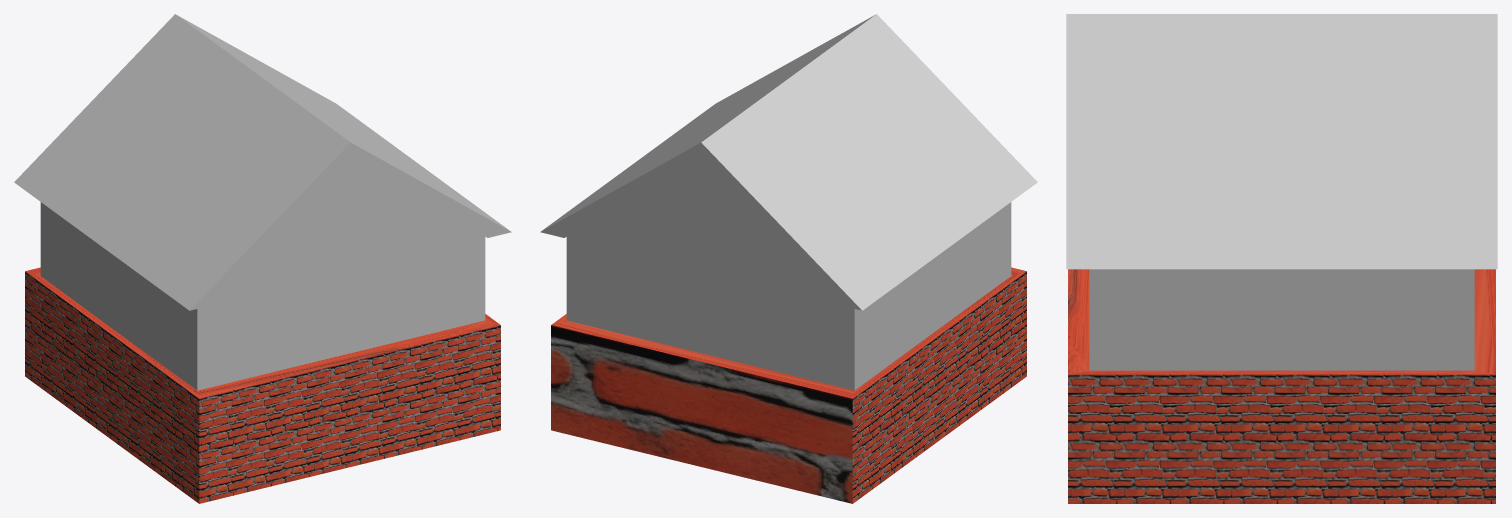
The model's file is BUDLING.obj.
3 views of the same model, side by side, from view 1: azimuth 30°, elevation 25°; view 2: azimuth 150°, elevation 25°; view 3: azimuth 270°, elevation 25° (orthographic). The views are drawn at different scales.
Visible parts, largest first — view 1: MainBuilding, Roof; view 2: MainBuilding, Roof; view 3: Roof, MainBuilding.
Boxes of the visible parts, x1,y1,x2,y2 form: MainBuilding: (25,159,500,503); Roof: (14,14,511,310); MainBuilding: (551,159,1026,503); Roof: (540,14,1037,310); Roof: (1066,14,1497,269); MainBuilding: (1068,269,1495,503).
Size of the model in its own units: 3.21 by 3.09 by 3.02.
